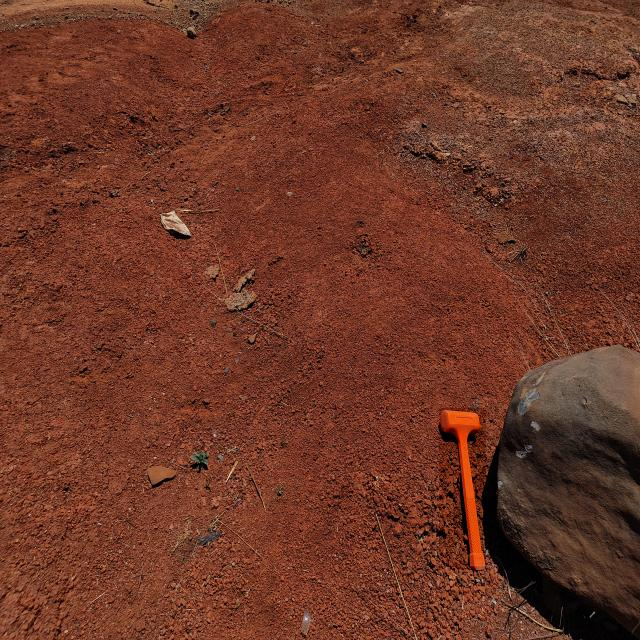Orange_hammer: (439, 408, 486, 570)
